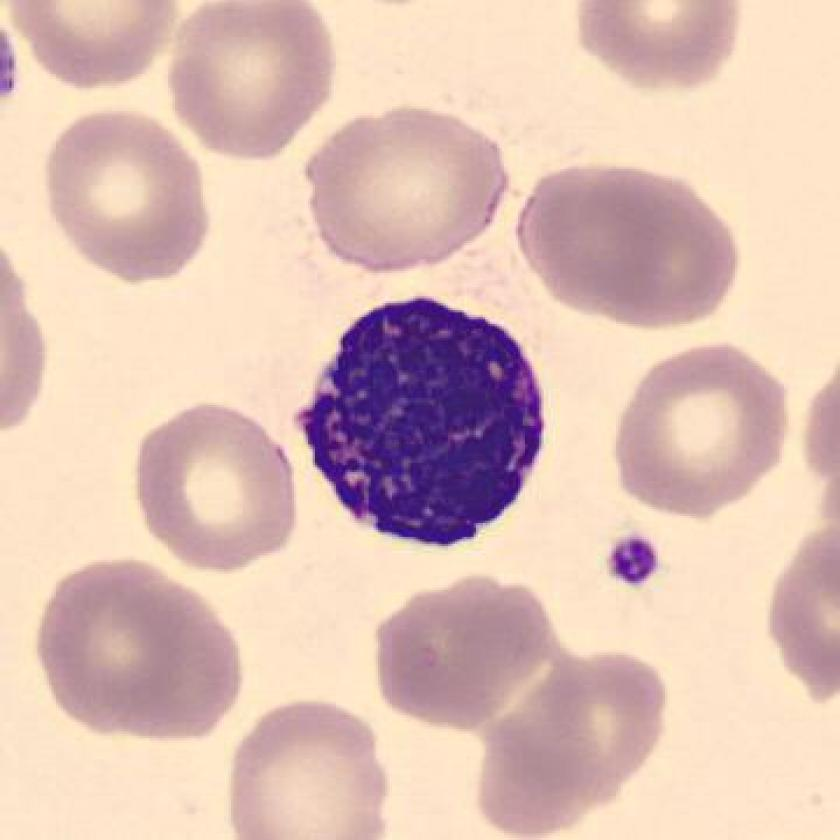basophil: (297, 290, 552, 559)
